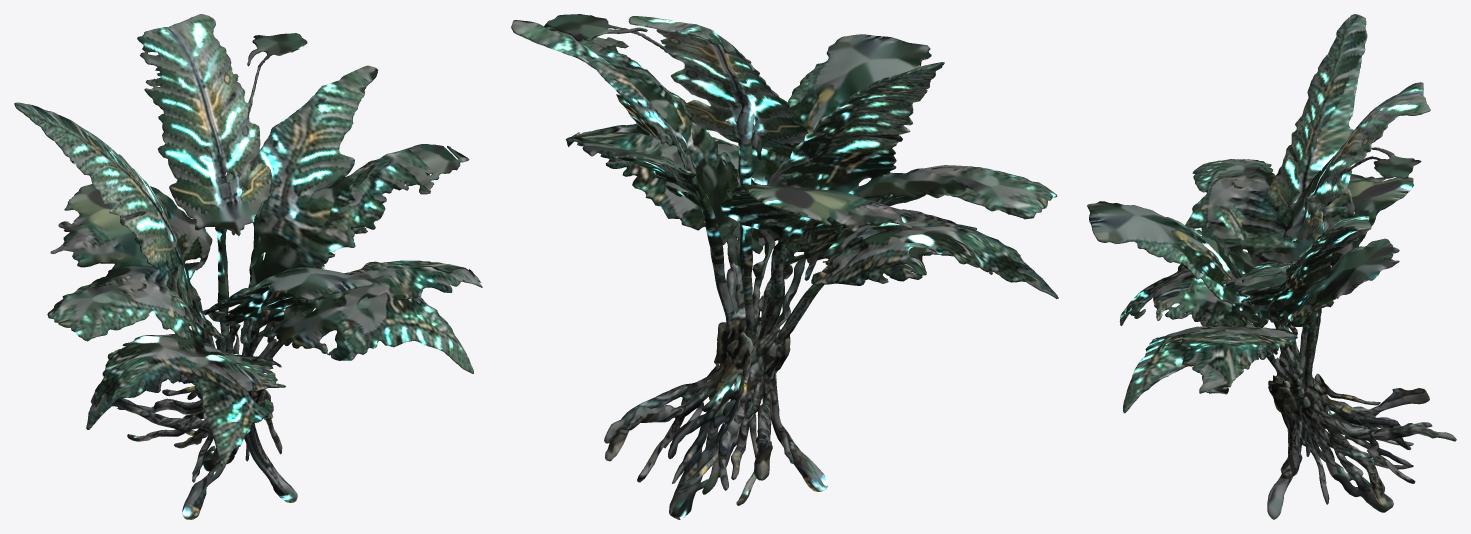
The model's file is cyber_glowing_fern.glb.
The picture shows the model from 3 angles, left to right: view 1: azimuth 30°, elevation 25°; view 2: azimuth 150°, elevation 25°; view 3: azimuth 270°, elevation 25°; orthographic projection. The views are drawn at different scales.
Parts seen in each view (by area): view 1: geometry_0; view 2: geometry_0; view 3: geometry_0.
Part boxes in pixels (left/top/right/bottom): geometry_0: left=14, top=14, right=482, bottom=519; geometry_0: left=511, top=14, right=1058, bottom=519; geometry_0: left=1087, top=14, right=1456, bottom=519.
Bounding box in the file's own units: 1.6 × 1.6 × 1.31.
Materials: 1 (1 with a texture image).
